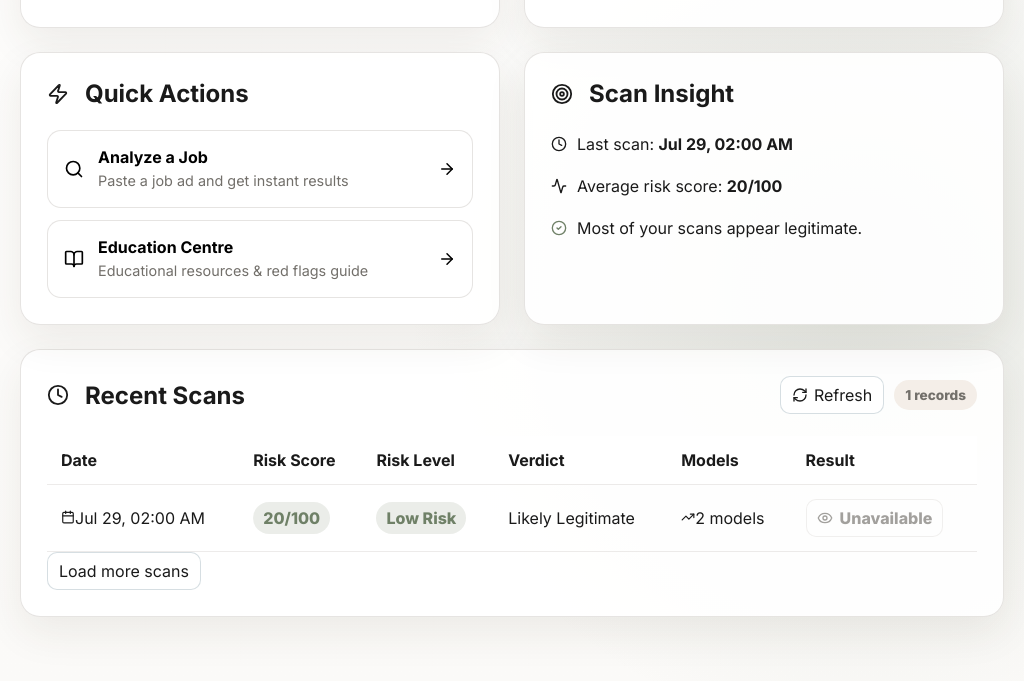
Test: loads another history page without duplicating existing entries
This screenshot has width=1024, height=681.
(page scrolled)
Click the button "Load more scans" at x=124, y=571, box [47,552,201,590]
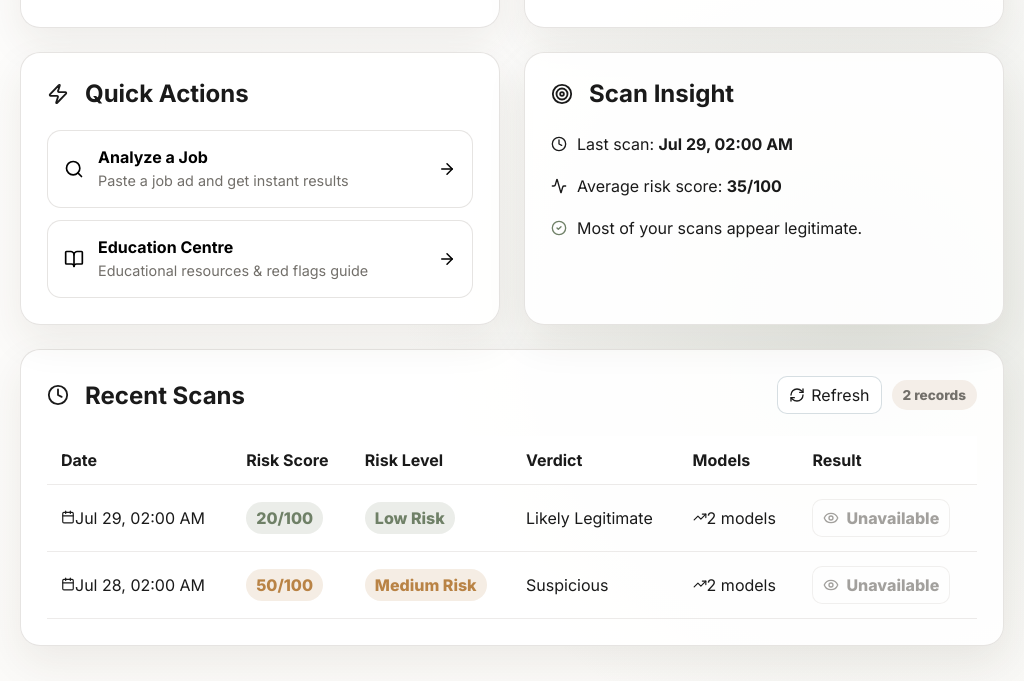
Now the text "50/100" is shown, box [246,569,323,601]
Now the text "2 records" is shown, box [892,380,977,410]
Now the text "20/100" is shown once, box [246,502,323,534]
